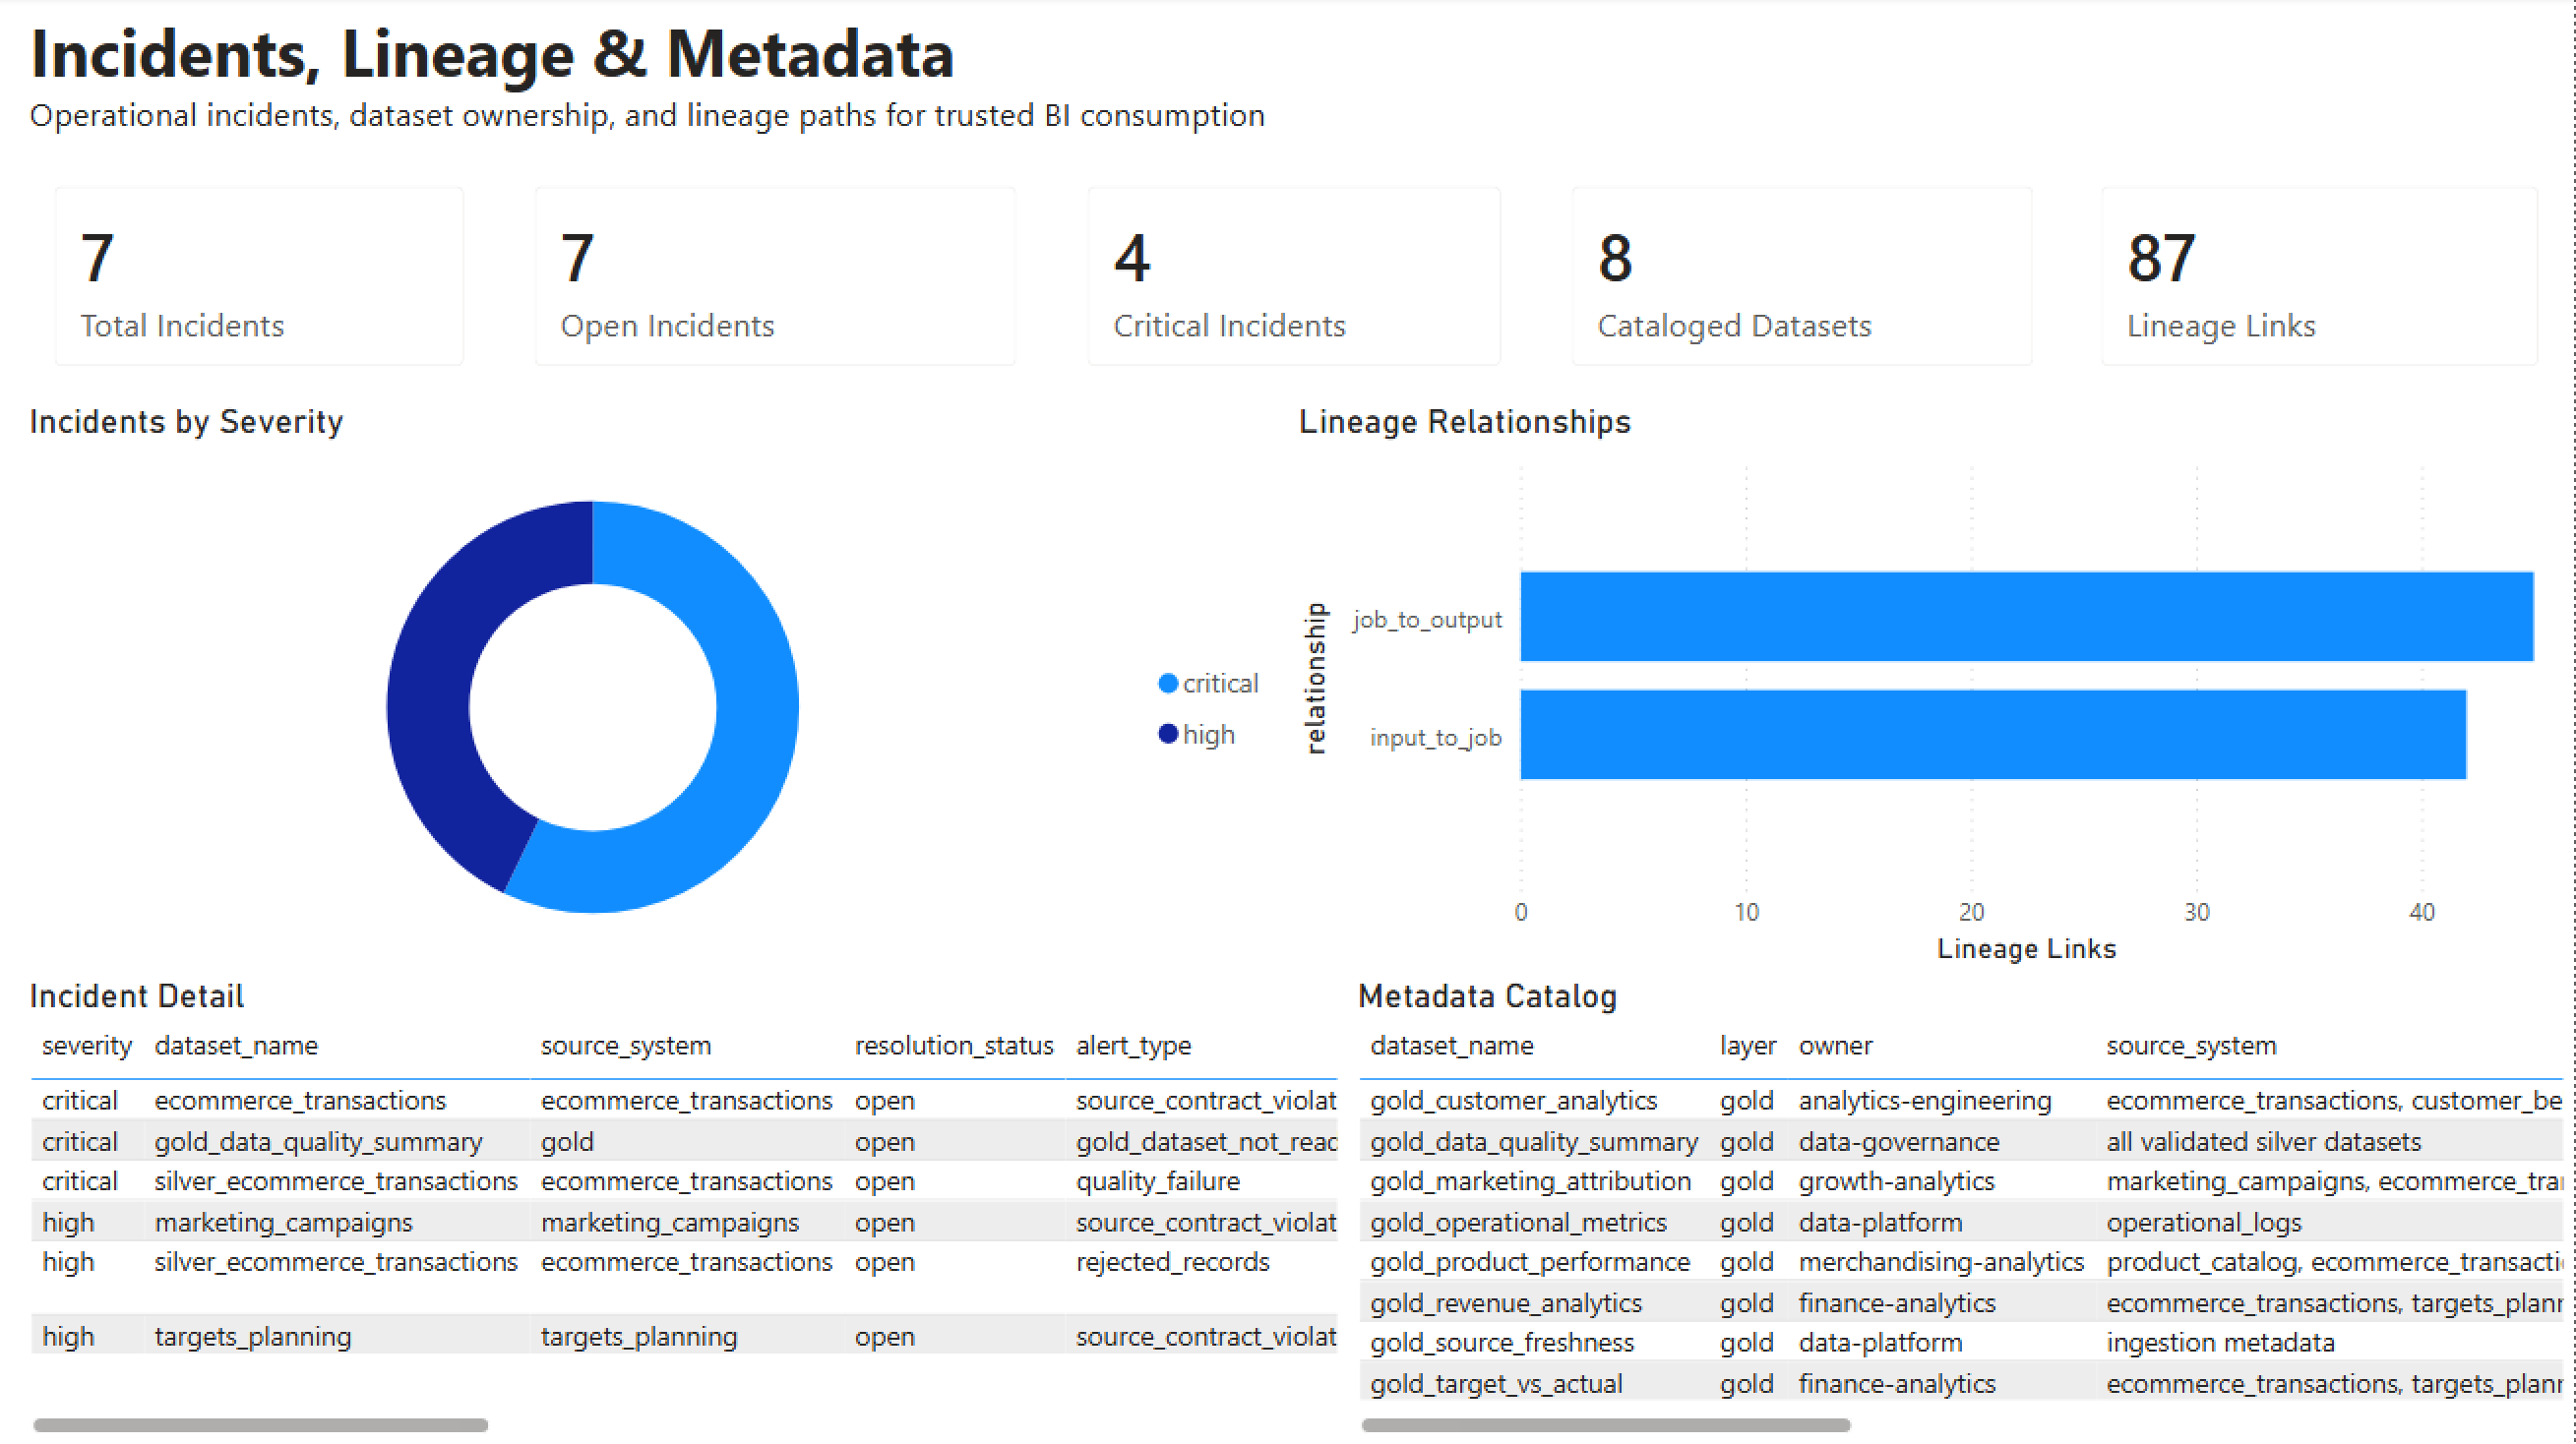

The dashboard page shown, as its layout file describes it:
{"tool":"powerbi","page":{"name":"Incidents, Lineage & Metadata","canvas":[1280,720],"ordinal":4},"visuals":[{"type":"textbox","box":[9.5,0,1270.5,77.4],"z":0},{"type":"cardVisual","fields":{"Data":["CountNonNull(incident_log.incident_id)"]},"box":[9.5,77.4,238.6,124.1],"z":1000},{"type":"cardVisual","fields":{"Data":["CountNonNull(incident_log.incident_id)"]},"box":[248.5,77.3,274.9,124.2],"z":2000},{"type":"cardVisual","fields":{"Data":["CountNonNull(metadata_catalog.dataset_name)"]},"box":[763.5,77.4,264.1,124.1],"z":3000},{"type":"cardVisual","fields":{"Data":["CountNonNull(incident_log.incident_id)"]},"box":[523.4,77.3,240.7,124.2],"z":4000},{"type":"cardVisual","fields":{"Data":["CountNonNull(lineage_edges.relationship)"]},"box":[1027.6,77.4,252.4,124.1],"z":5000},{"type":"donutChart","title":"Incidents by Severity","fields":{"Category":["incident_log.severity"],"Y":["CountNonNull(incident_log.incident_id)"]},"box":[9.5,201.5,631,285.3],"z":6000},{"type":"clusteredBarChart","title":"Lineage Relationships","fields":{"Category":["lineage_edges.relationship"],"Y":["CountNonNull(lineage_edges.target)"]},"box":[640.5,201.5,631,285.3],"z":7000},{"type":"tableEx","title":"Incident Detail","fields":{"Values":["incident_log.severity","incident_log.dataset_name","incident_log.source_system","incident_log.resolution_status","incident_log.alert_type","incident_log.business_impact","incident_log.recommended_action"]},"box":[9.8,487.2,660.3,232.8],"z":8000},{"type":"tableEx","title":"Metadata Catalog","fields":{"Values":["metadata_catalog.dataset_name","metadata_catalog.layer","metadata_catalog.owner","metadata_catalog.source_system","metadata_catalog.refresh_frequency","metadata_catalog.criticality_tier","metadata_catalog.readiness_status","metadata_catalog.downstream_usage"]},"box":[670.1,487.2,609.5,232.8],"z":9000}]}

Visuals, with their boxes in screenshot pixels (x1, y1, x2, y2), scaled from the page's 1280x720 canvas onto the 2576x1444 screenshot:
textbox: BBox(19, 0, 2575, 155)
cardVisual - CountNonNull(incident_log.incident_id): BBox(19, 155, 499, 404)
cardVisual - CountNonNull(incident_log.incident_id): BBox(500, 155, 1054, 404)
cardVisual - CountNonNull(metadata_catalog.dataset_name): BBox(1537, 155, 2068, 404)
cardVisual - CountNonNull(incident_log.incident_id): BBox(1054, 155, 1538, 404)
cardVisual - CountNonNull(lineage_edges.relationship): BBox(2068, 155, 2575, 404)
"Incidents by Severity" donutChart: BBox(19, 404, 1289, 977)
"Lineage Relationships" clusteredBarChart: BBox(1289, 404, 2559, 977)
"Incident Detail" tableEx: BBox(20, 977, 1349, 1443)
"Metadata Catalog" tableEx: BBox(1349, 977, 2575, 1443)
